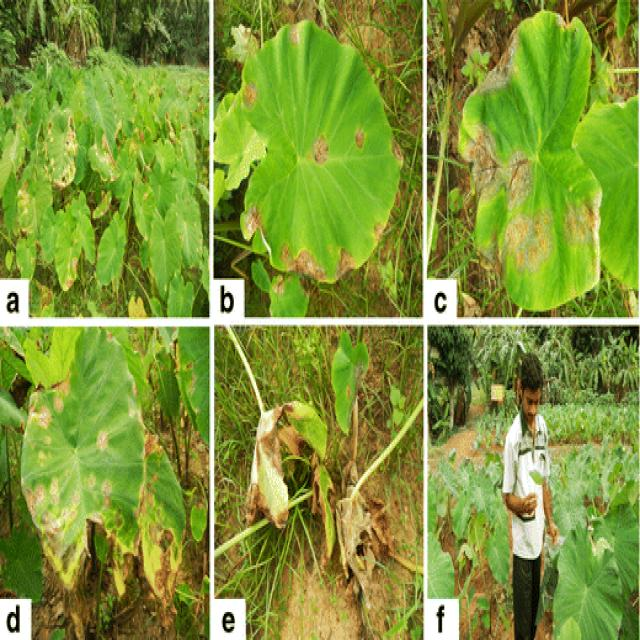blight: (472, 120, 570, 278), (272, 222, 362, 292), (144, 482, 180, 582)
